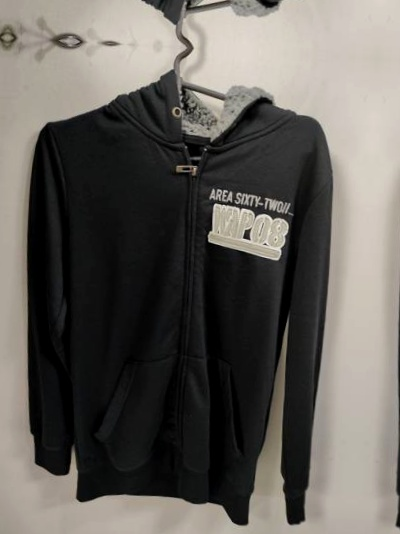Hoodie: (9, 56, 361, 528), (366, 76, 400, 534), (37, 0, 389, 41), (394, 0, 400, 61), (0, 0, 5, 19)
